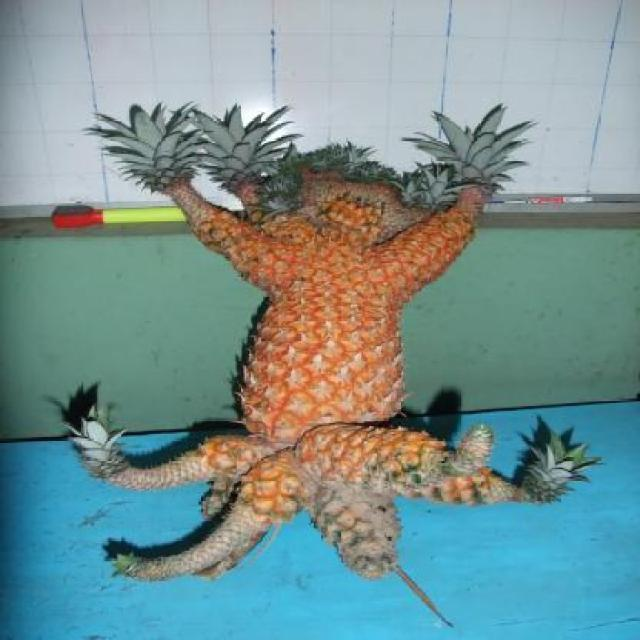Pineapple: (61, 100, 608, 586)
